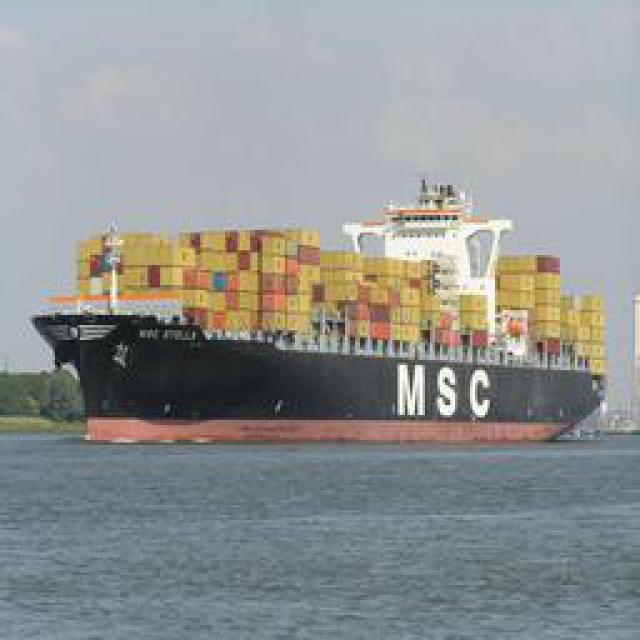Ship: (26, 165, 606, 425)
